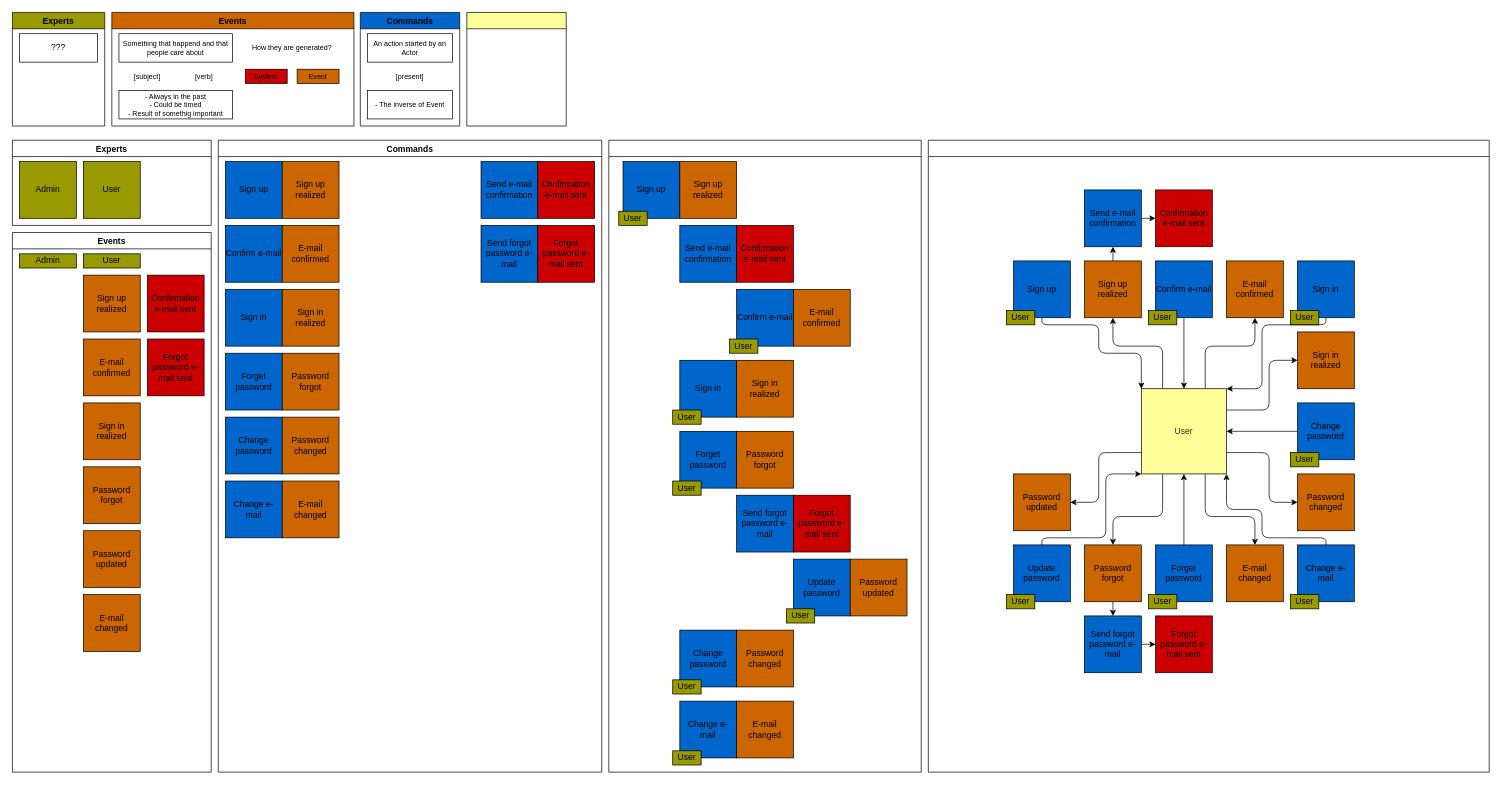
Image size: 1502x785. Some labels were removed from this diagram. The box of each missing label's shape, as (x1, y1, x2, y2) in pixels:
Aggregates: (466, 12, 566, 126)
Mappers: (928, 140, 1489, 772)
Timeline: (608, 140, 921, 772)
